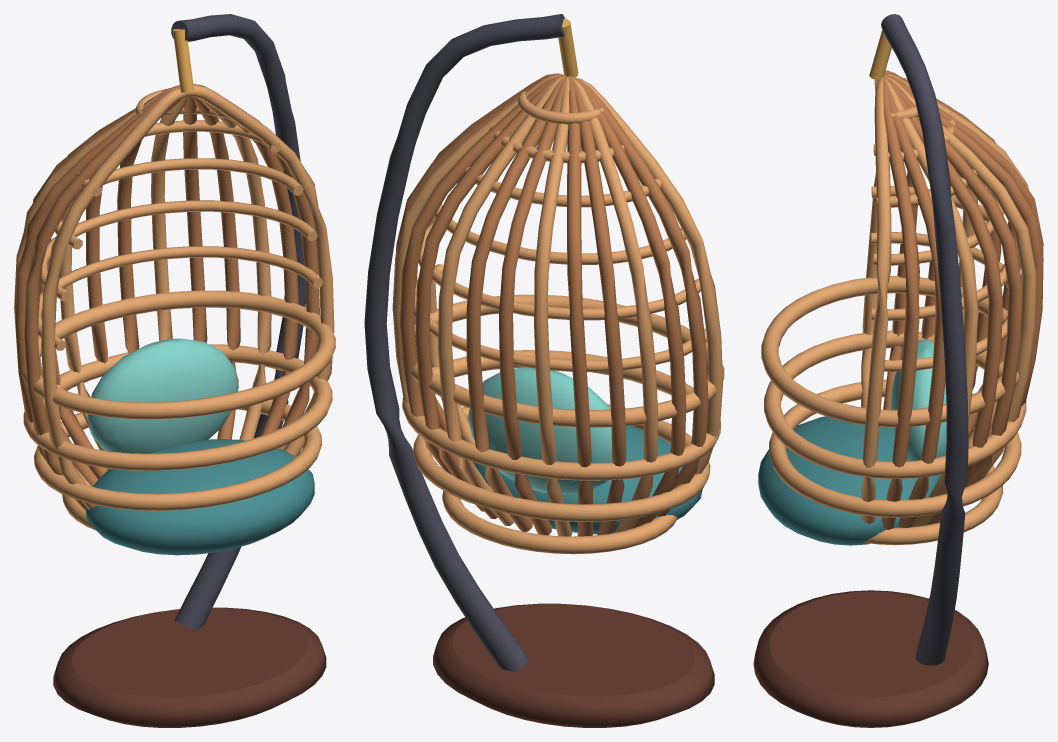
Rendered from atelier_wicker.glb.
3 renders of one model, left to right at view 1: azimuth 30°, elevation 25°; view 2: azimuth 150°, elevation 25°; view 3: azimuth 270°, elevation 25°, orthographic. The views are drawn at different scales.
Visible parts, largest first — view 1: Sillón colgante de mimbre; view 2: Sillón colgante de mimbre; view 3: Sillón colgante de mimbre.
Part boxes in pixels (x1,y1,x2,y2): Sillón colgante de mimbre: [14, 14, 335, 727]; Sillón colgante de mimbre: [364, 14, 724, 727]; Sillón colgante de mimbre: [753, 14, 1043, 727].
Bounding box in the file's own units: 0.8464 × 1.73 × 0.687.
